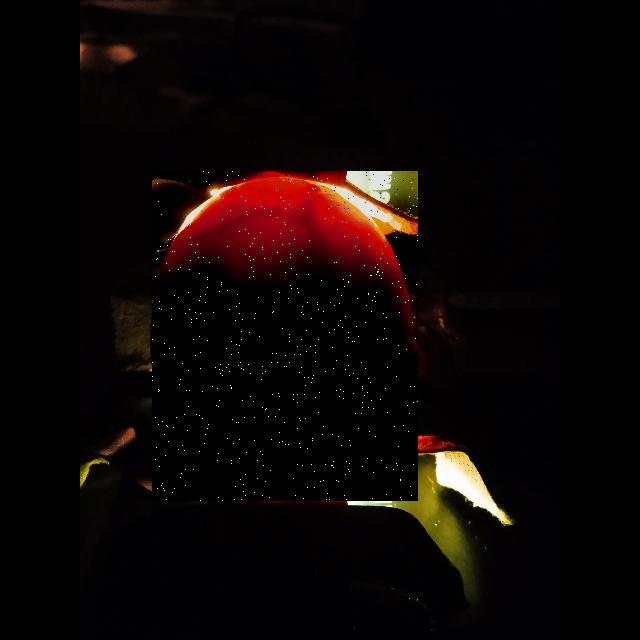Fertile: (152, 171, 418, 501)
